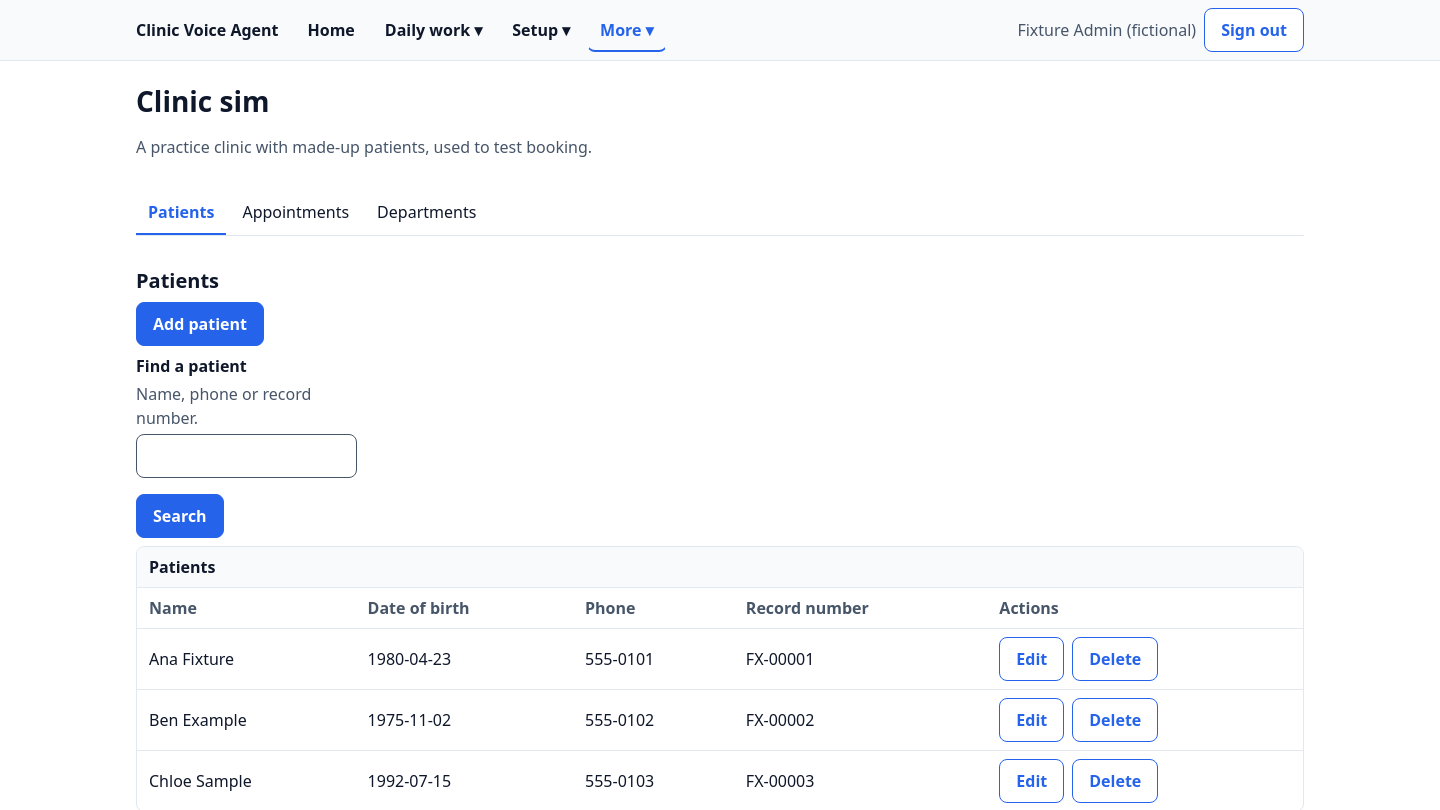
it: T-CLINIC-PAGES: patients tab › add patient: a 422 shows the problem under its field and keeps the dialog open
This screenshot has width=1440, height=810.
Expected: the table with test id "admin-table-clinic-patients" is shown, [137,547,1303,809]
Click the button with test id "clinic-patient-add" at (200, 324), box [136,302,264,346]
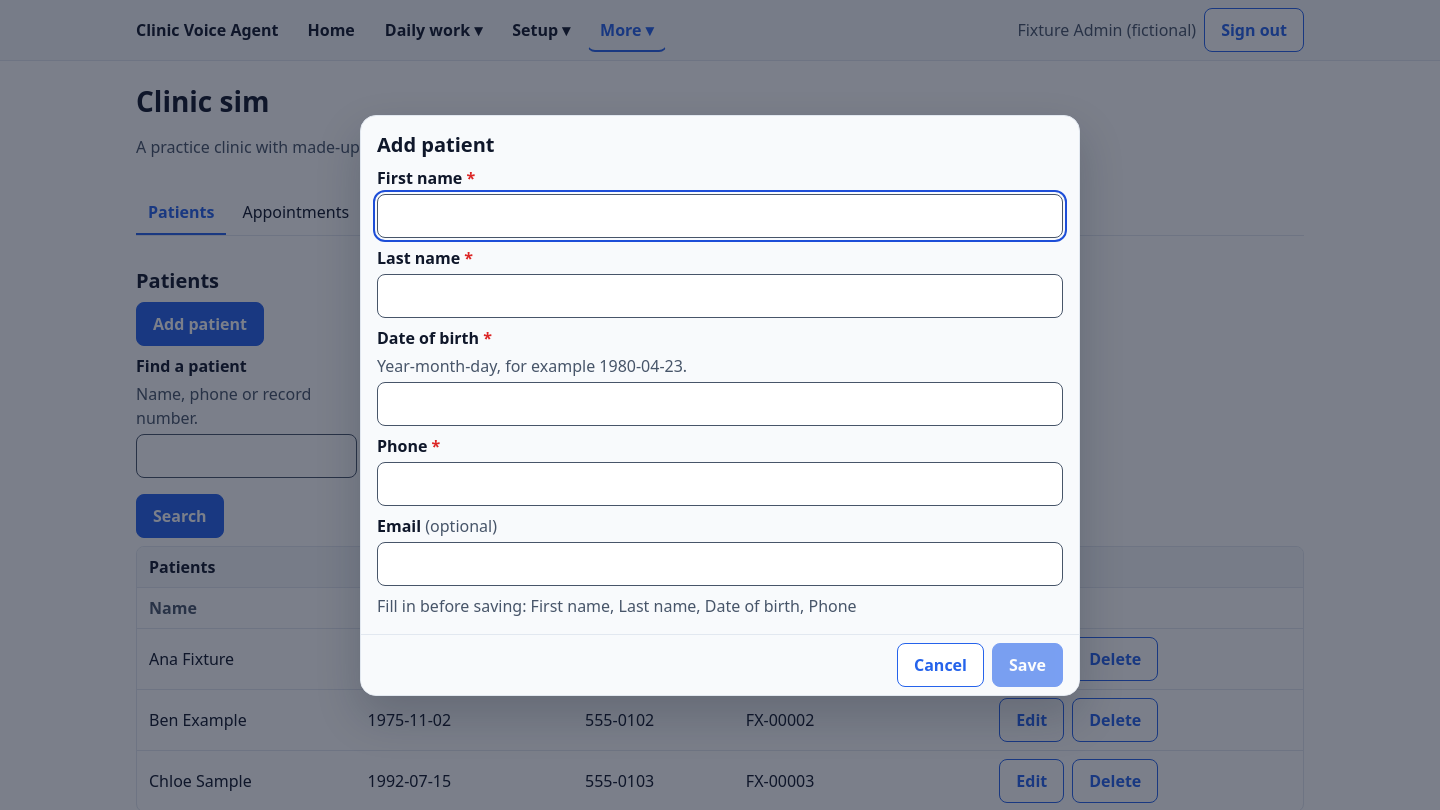
Expected: the button with test id "clinic-patient-dialog-confirm" is disabled, [992,642,1063,686]
Type "Dana" into the field with test id "clinic-patient-first_name" at (720, 216), box [377,194,1063,238]
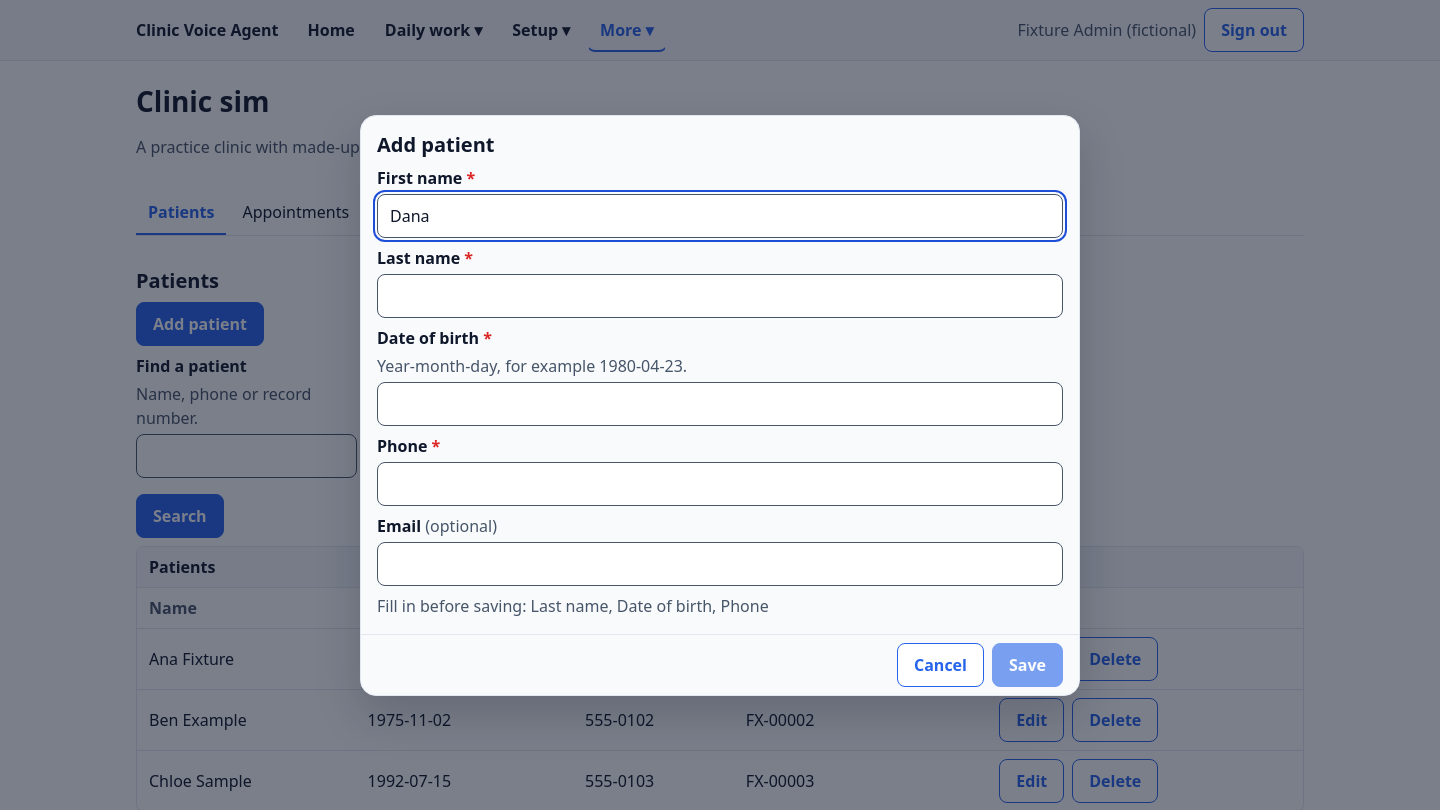
Type "Fixture" into the field with test id "clinic-patient-last_name" at (720, 296), box [377,274,1063,318]
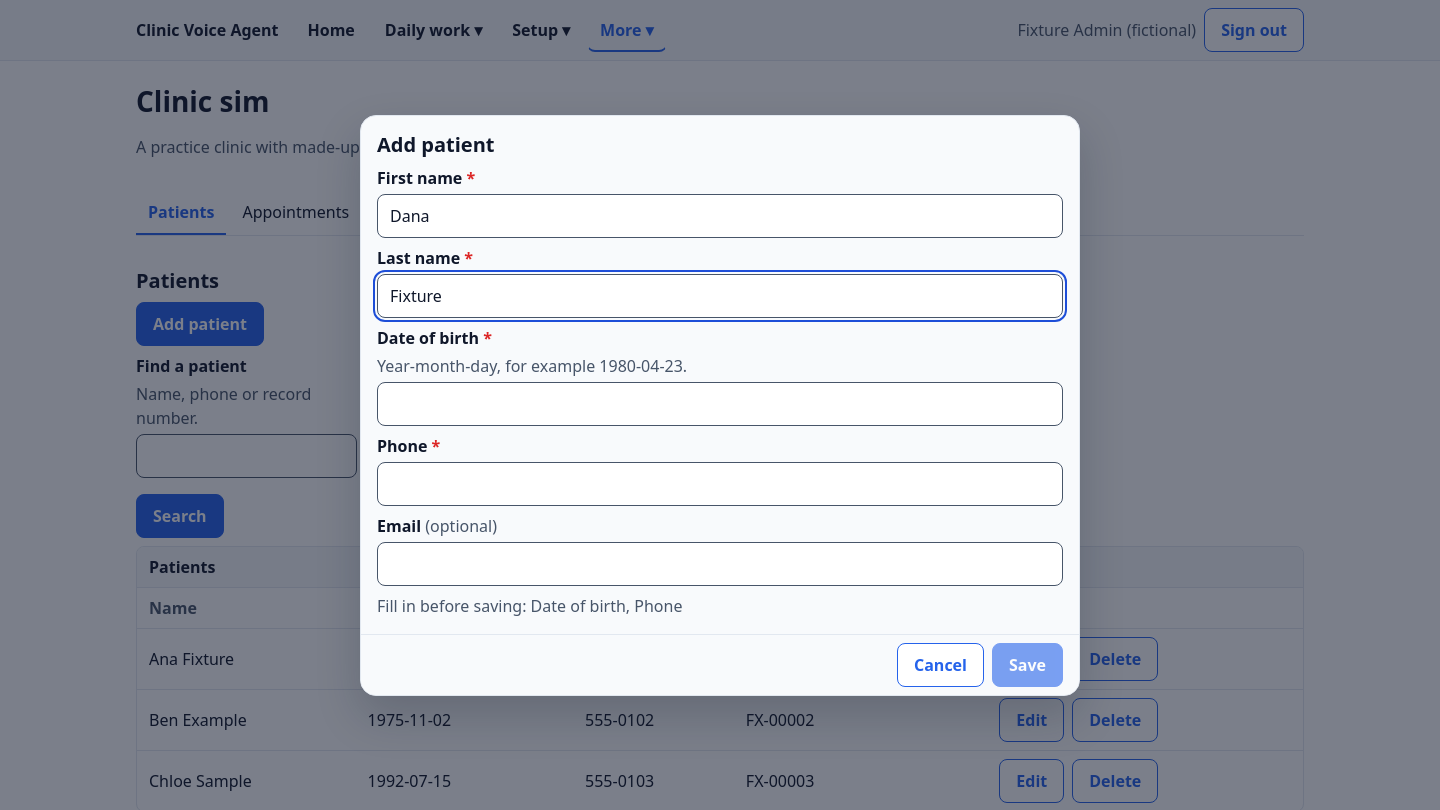
Type "1990-13-45" into the field with test id "clinic-patient-date_of_birth" at (720, 404), box [377,382,1063,426]
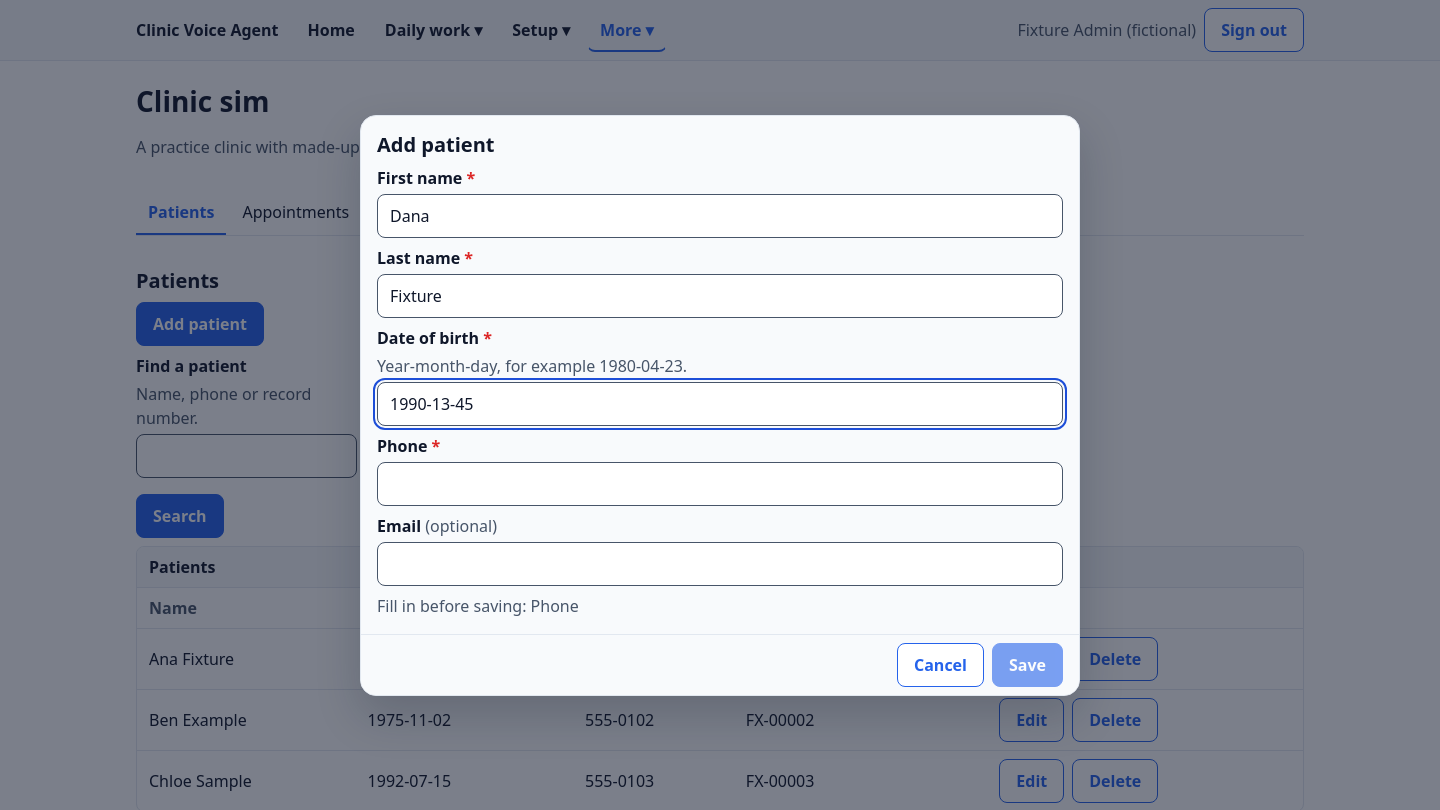
Type "555-0199" into the field with test id "clinic-patient-phone" at (720, 484), box [377,462,1063,506]
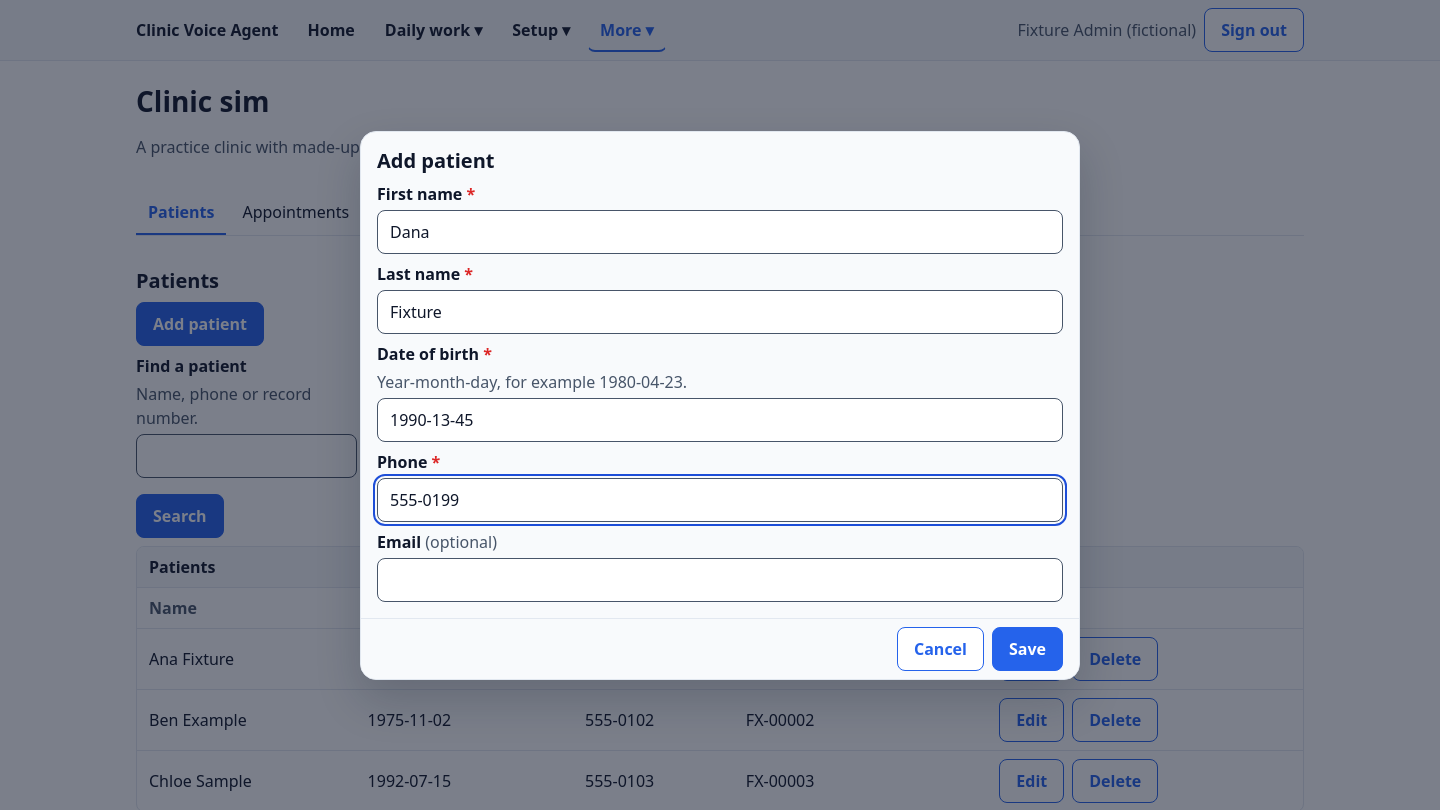
Click the button with test id "clinic-patient-dialog-confirm" at (1028, 648), box [992,626,1063,670]
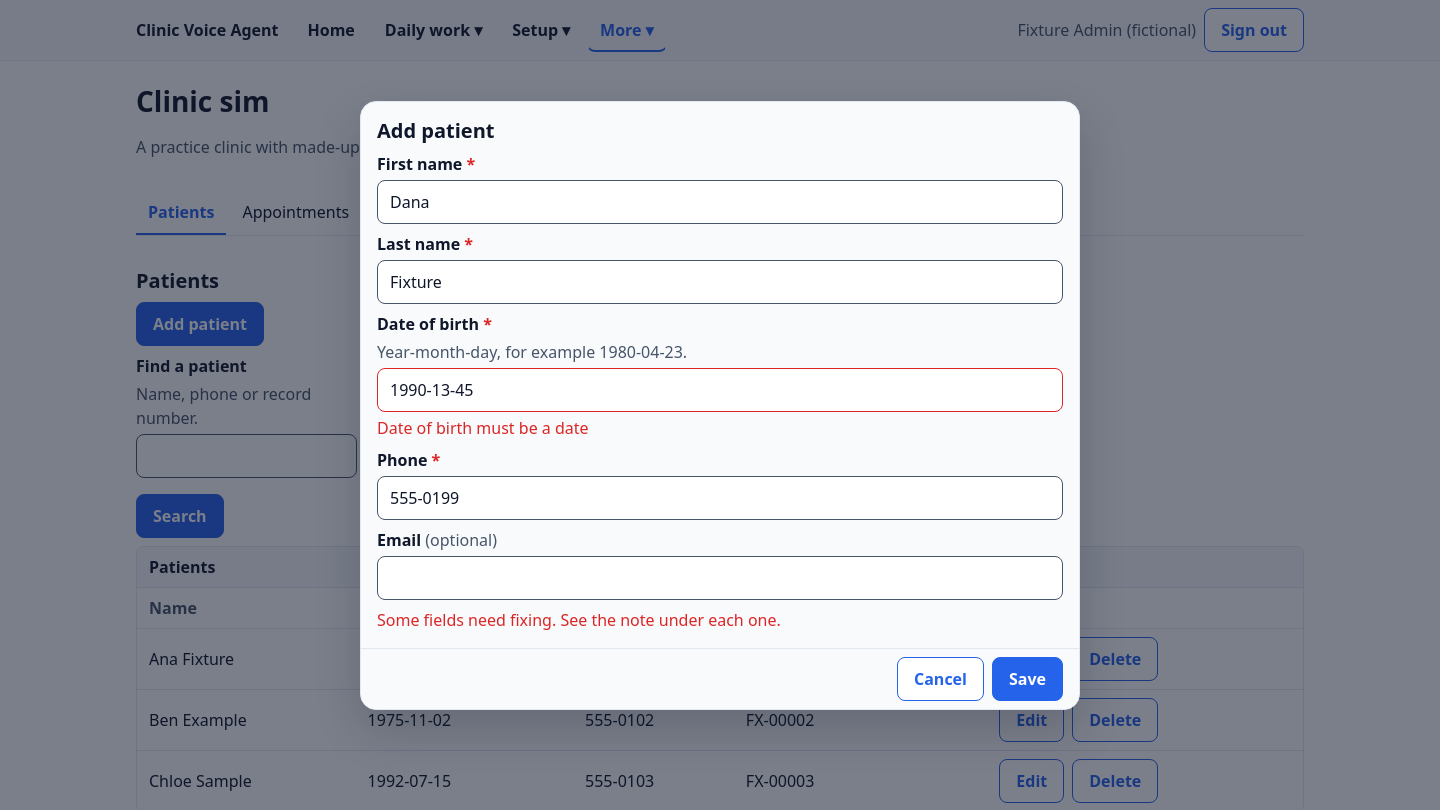
Expected: the dialog with test id "clinic-patient-dialog" is shown, [360,100,1080,710]
Expected: the text "Date of birth must be a date" is shown, [377,416,589,438]
Expected: the message with test id "clinic-patient-error" shows "Some fields need fixing", [377,608,781,630]
